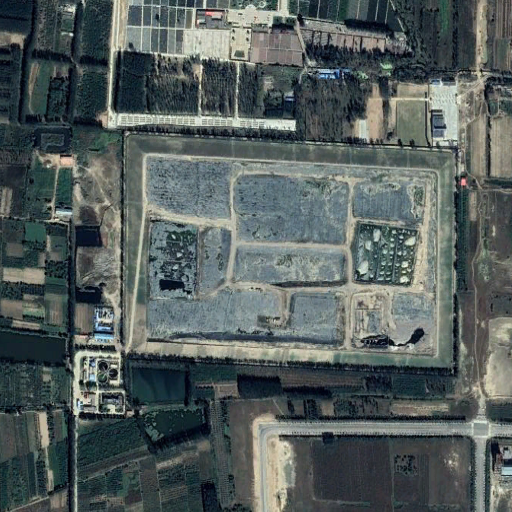lf: (141, 151, 440, 359)
